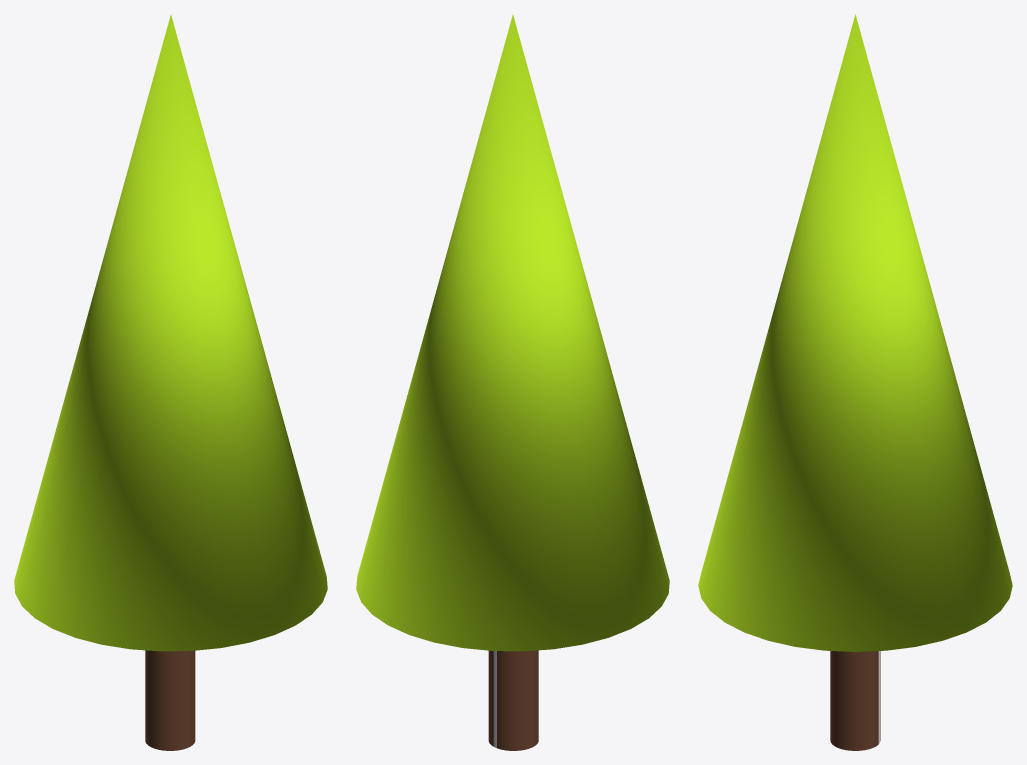
File: Tree_1.fbx
The picture shows the model from 3 angles, left to right: view 1: azimuth 30°, elevation 25°; view 2: azimuth 150°, elevation 25°; view 3: azimuth 270°, elevation 25°; orthographic projection.
Visible parts, largest first — view 1: Plane.002; view 2: Plane.002; view 3: Plane.002.
Part boxes in pixels (x1,y1,x2,y2): Plane.002: (14, 15, 327, 750); Plane.002: (356, 15, 669, 750); Plane.002: (698, 14, 1012, 750).
Size of the model in its own units: 200 by 510 by 200.
